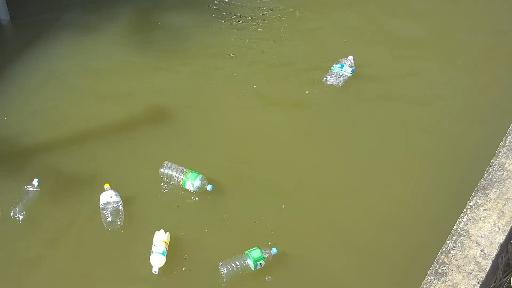plastic: (213, 245, 280, 281), (90, 183, 132, 234), (160, 156, 219, 192), (1, 175, 42, 224), (142, 230, 183, 276), (316, 55, 360, 93)
